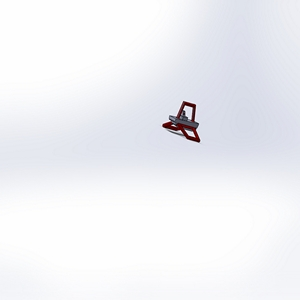submarine: (143, 90, 225, 165)
